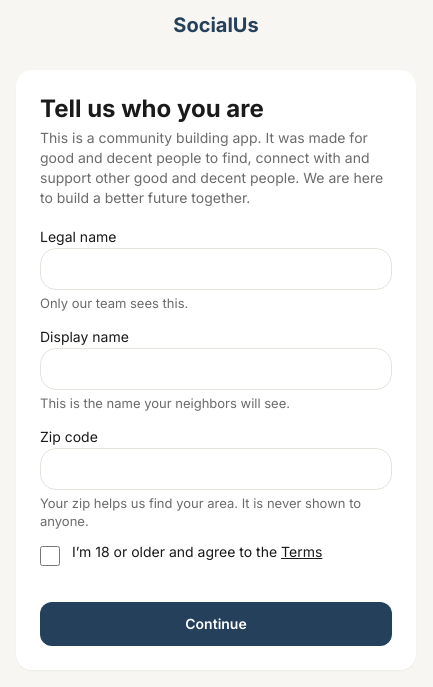
it: F103 — the zip decides the market, and the screen shows it › a waiting market is named, and there is nothing to pick
The width and height of the screenshot is (433, 687).
Type "Maya Rivera" into the field with test id "onboarding-legal-name".
click(216, 269); type("Maya Rivera")  # box [40,248,392,290]
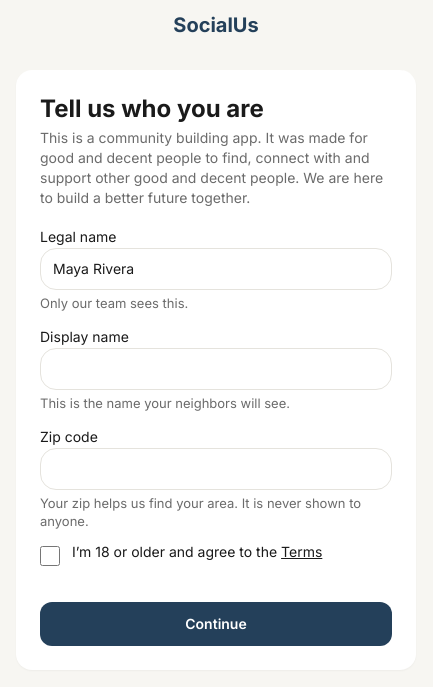
Type "Maya" into the field with test id "onboarding-name".
click(216, 369); type("Maya")  # box [40,348,392,390]
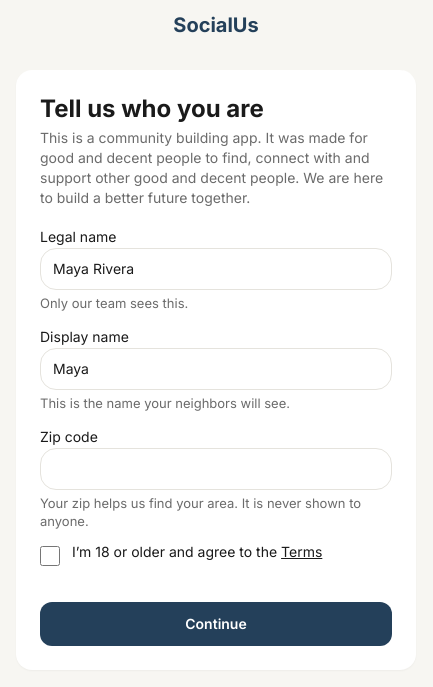
Type "95901" into the field with test id "onboarding-zip".
click(216, 469); type("95901")  # box [40,448,392,490]
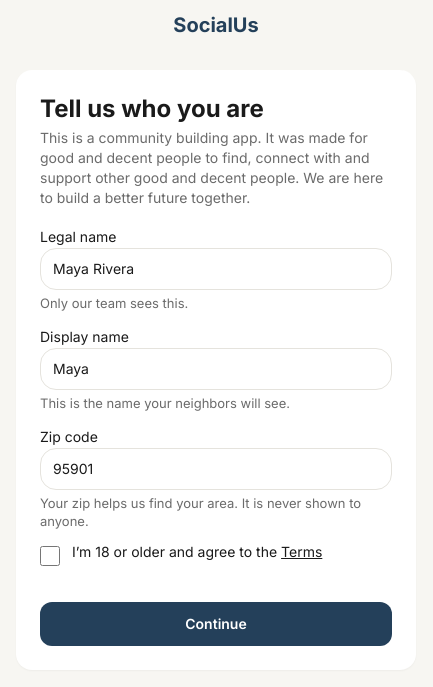
Click the checkbox with test id "onboarding-adult".
click(50, 556)  # box [40,546,60,566]
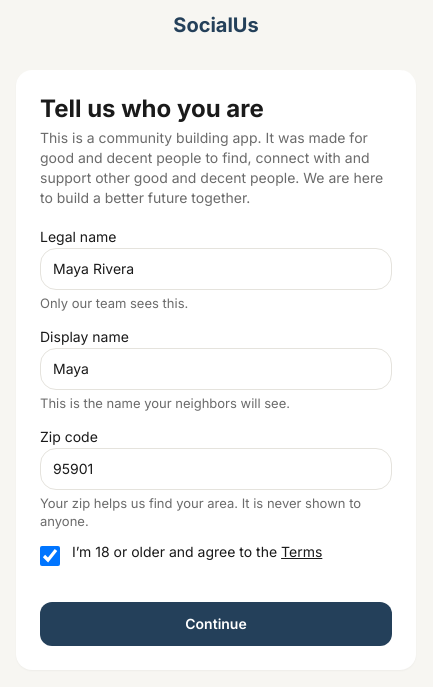
Click the button with test id "onboarding-continue".
click(216, 624)  # box [40,602,392,646]
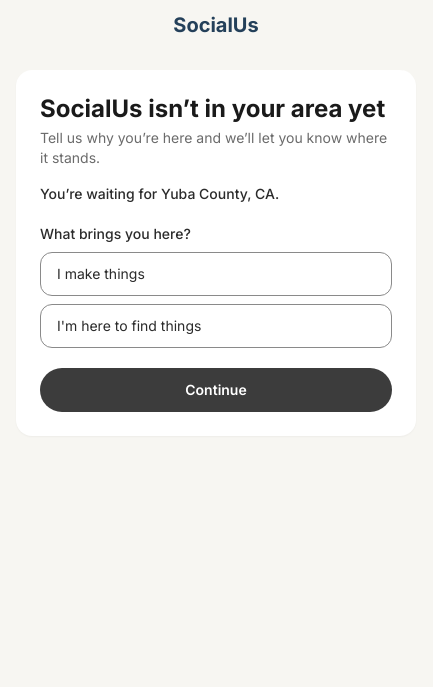
Check: the text with test id "waitlist-market" shows "Yuba County, CA", box [161,185,275,202]
